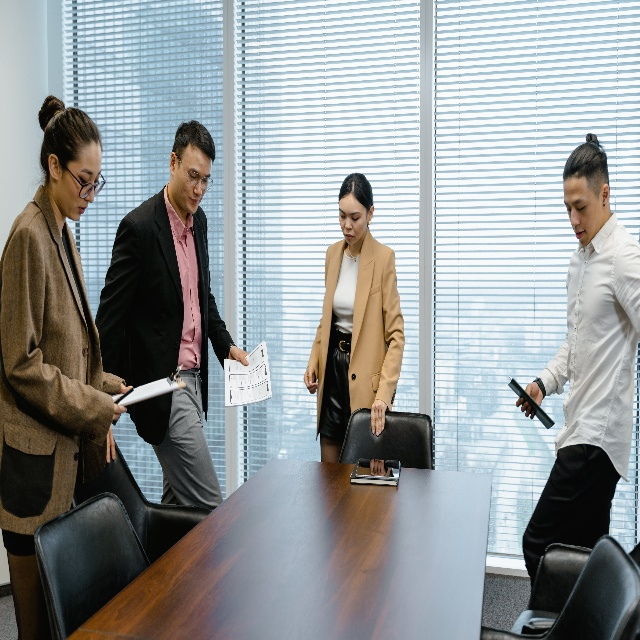Gafas: (47, 150, 106, 199)
Sin_guantes: (515, 380, 544, 421), (371, 400, 388, 436), (303, 365, 320, 395), (112, 393, 128, 423), (106, 423, 117, 463), (230, 345, 250, 366), (121, 380, 133, 393)
